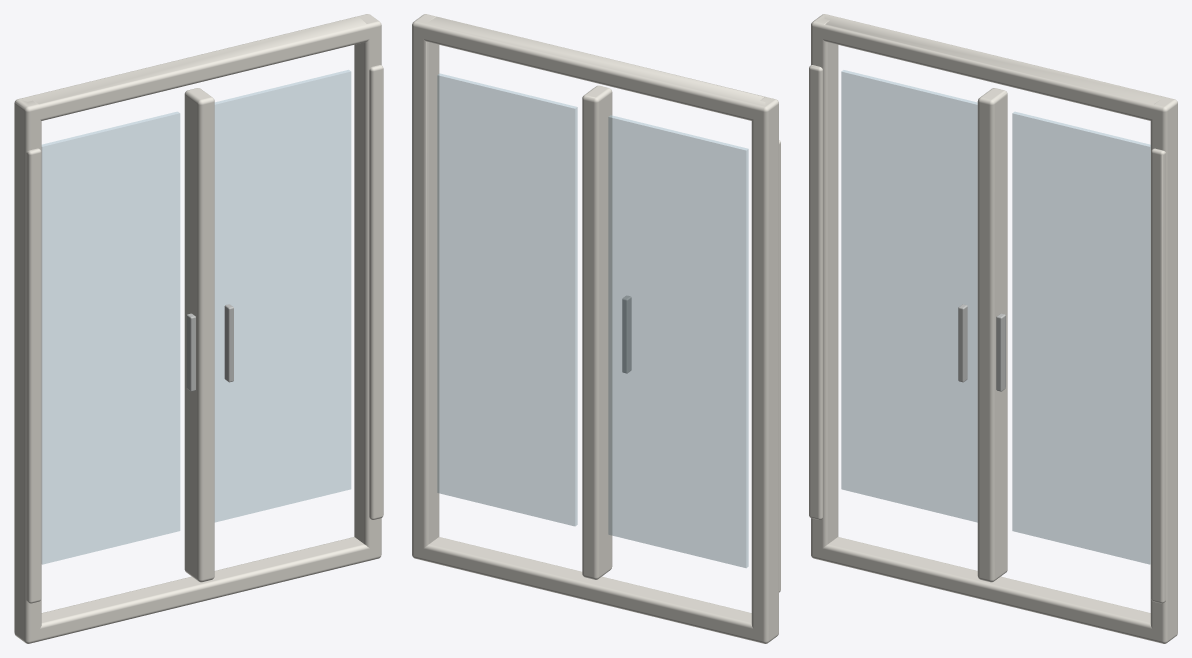
The model's file is modern-double-glass-door.optimized.glb.
3 views of the same model, side by side, from view 1: azimuth 30°, elevation 25°; view 2: azimuth 150°, elevation 25°; view 3: azimuth 330°, elevation 25° (orthographic).
Parts seen in each view (by area): view 1: double door casing top rail, left full lite glass, right full lite glass, left pull; view 2: double door casing top rail, left full lite glass, right full lite glass, left pull; view 3: double door casing top rail, right full lite glass, left full lite glass, left pull.
Boxes of the visible parts, x1=… form: double door casing top rail: x1=14, y1=14, x2=383, y2=643; left full lite glass: x1=41, y1=111, x2=180, y2=564; right full lite glass: x1=214, y1=70, x2=351, y2=522; left pull: x1=186, y1=304, x2=233, y2=391; double door casing top rail: x1=412, y1=14, x2=780, y2=643; left full lite glass: x1=608, y1=115, x2=748, y2=567; right full lite glass: x1=437, y1=73, x2=577, y2=526; left pull: x1=622, y1=295, x2=631, y2=373; double door casing top rail: x1=809, y1=14, x2=1177, y2=643; right full lite glass: x1=1012, y1=111, x2=1150, y2=564; left full lite glass: x1=841, y1=70, x2=977, y2=522; left pull: x1=958, y1=304, x2=1005, y2=391.
Bounding box in the file's own units: 1.5 × 2.16 × 0.1575.
